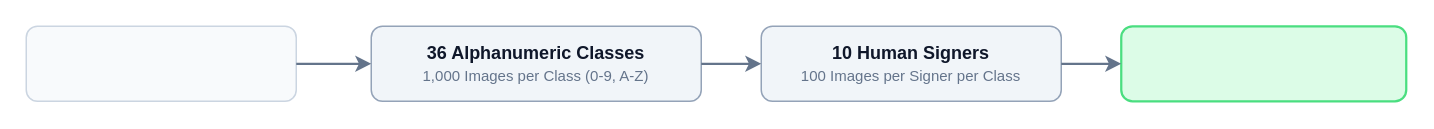
Some shapes in this 1434 by 129 pixel diagram are drawn without their labels. Here are the shapes that lost their labels. From the top down, the centre of each, then its label:
point 160,63: ASL-HG Raw Dataset 36,000 Total Images
point 1263,63: 300×300 RGB JPEGs Uniform size, zero corrupted files
